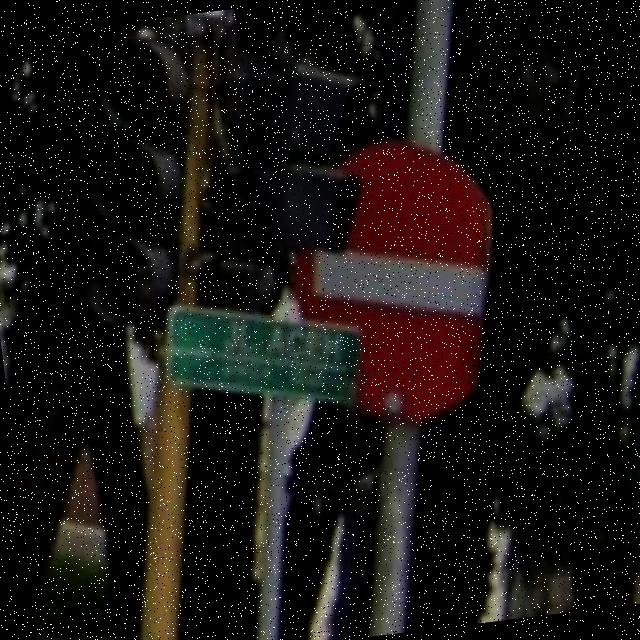Zakaz wjazdu: (280, 126, 512, 434)
